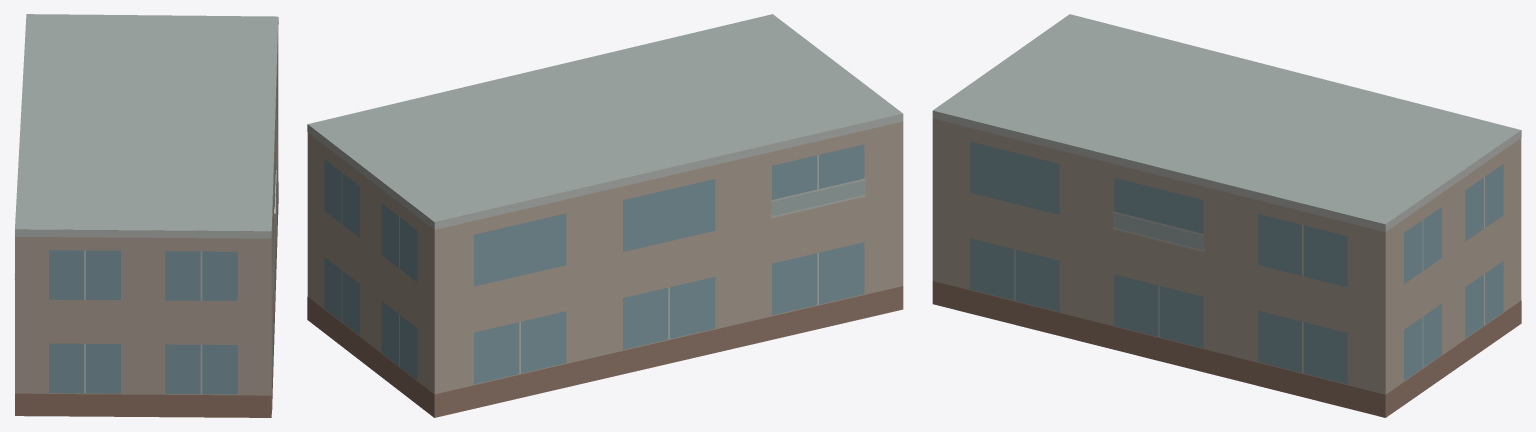
Rendered from survey-upis-32985476.glb.
The picture shows the model from 3 angles, left to right: view 1: azimuth 30°, elevation 25°; view 2: azimuth 150°, elevation 25°; view 3: azimuth 270°, elevation 25°; orthographic projection. The views are drawn at different scales.
Visible parts, largest first — view 1: survey-upis-32985476.tmp; view 2: survey-upis-32985476.tmp; view 3: survey-upis-32985476.tmp.
Part boxes in pixels (bbox=[...]): survey-upis-32985476.tmp: bbox=[14, 14, 278, 417]; survey-upis-32985476.tmp: bbox=[307, 14, 903, 417]; survey-upis-32985476.tmp: bbox=[932, 14, 1521, 417].
Bounding box in the file's own units: 14.23 × 6.1 × 16.83.
